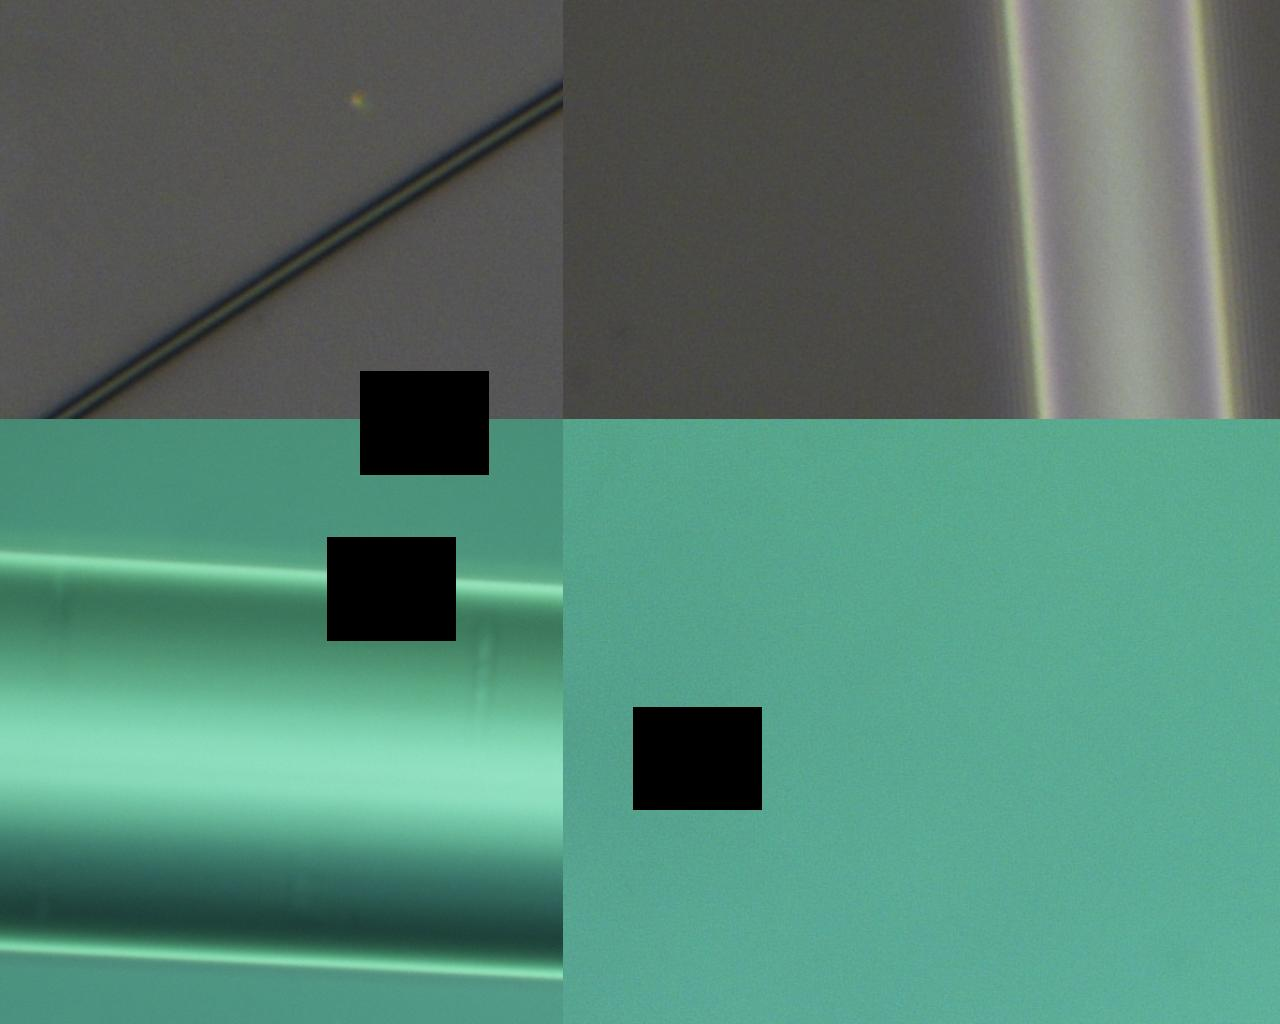fiber: (288, 0, 553, 614), (588, 614, 897, 1024), (630, 0, 1280, 166)
